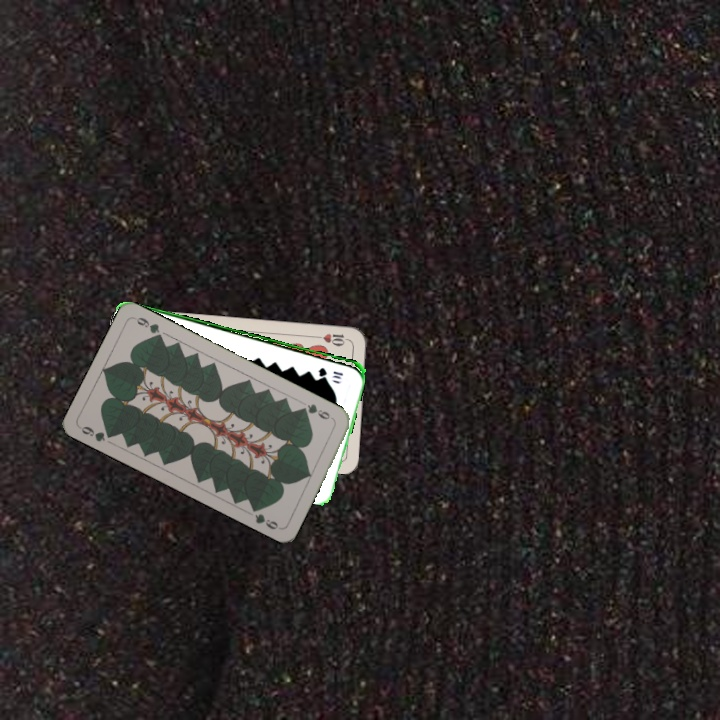G10: (314, 363, 346, 378)
G9: (76, 422, 117, 445), (297, 400, 337, 423)
H10: (312, 330, 352, 348)
